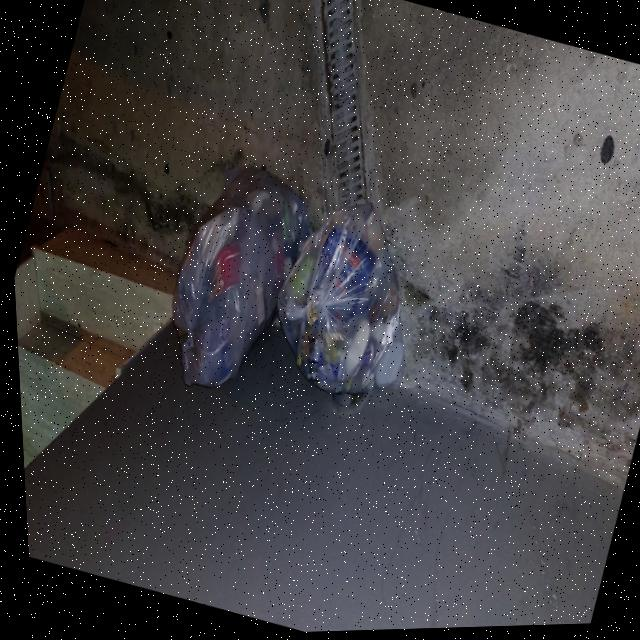Recycled Waste -Grey or Green Bag-: (131, 137, 334, 417), (244, 176, 453, 424)
